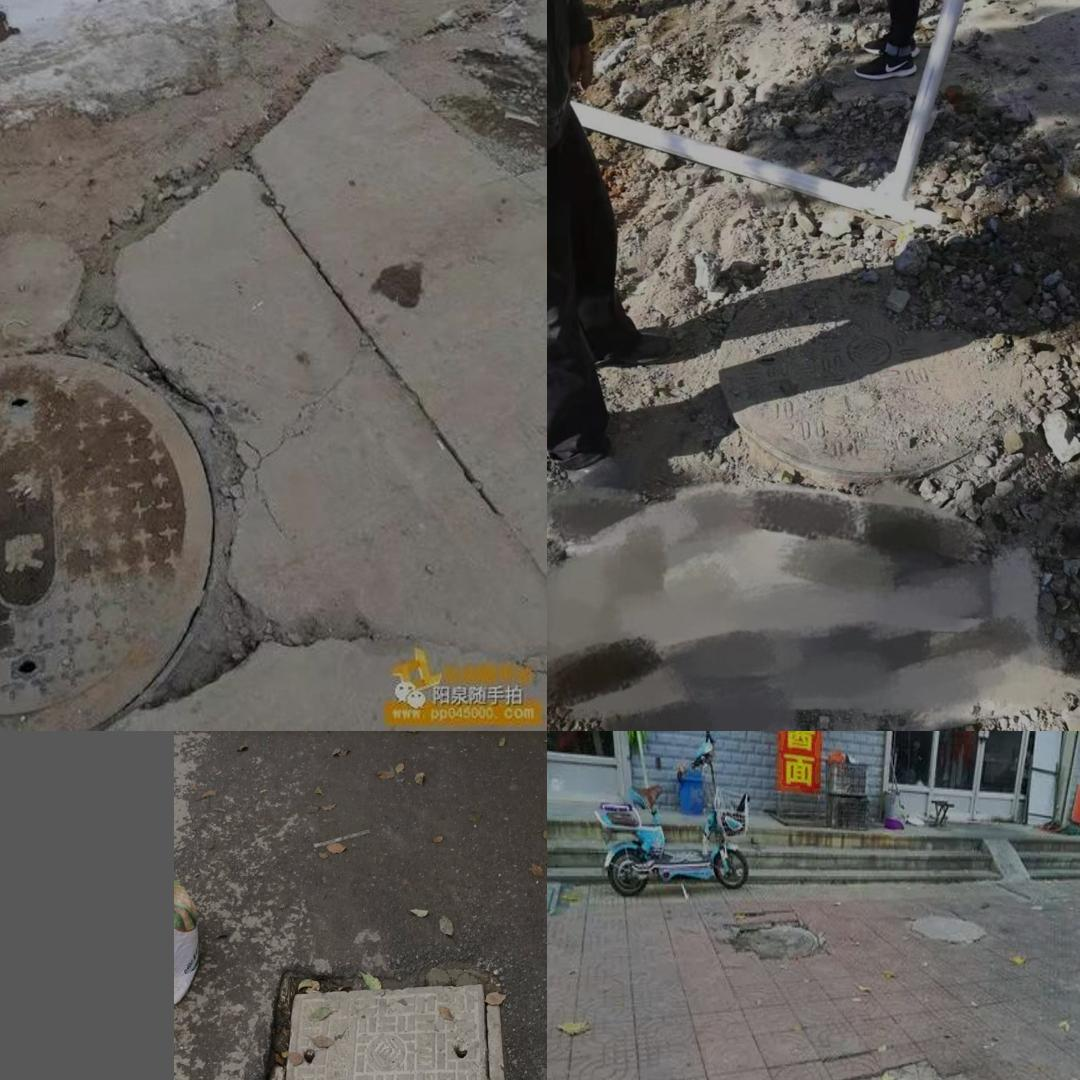circle: (0, 319, 340, 721), (677, 258, 1080, 524), (220, 969, 515, 1080), (769, 1059, 1068, 1080)
